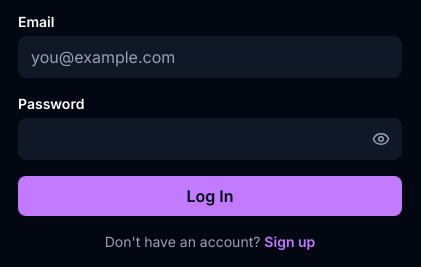
Test: LoginForm › disables the form and changes the button text while logging in
Type "fox@heist.io" into the field labelled "Email" at (210, 57), box [18,36,402,78]
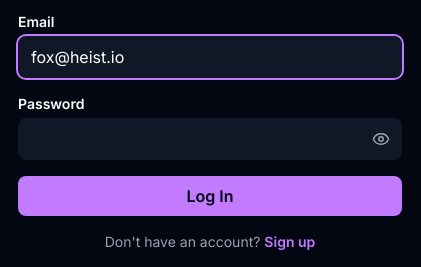
Type "secret123" into the password field labelled "Password" at (210, 139), box [18,118,402,160]
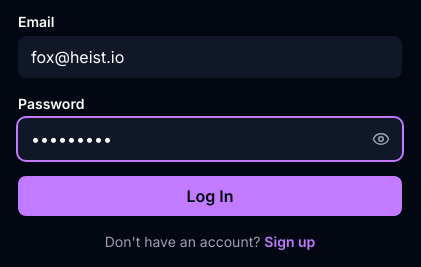
Click the button "Log In" at (210, 196), box [18,176,402,216]
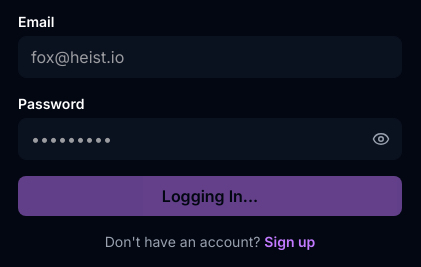
Expected: the button "Logging In..." is disabled, [18,176,402,216]
Expected: the field labelled "Email" is disabled, [18,36,402,78]
Expected: the password field labelled "Password" is disabled, [18,118,402,160]
